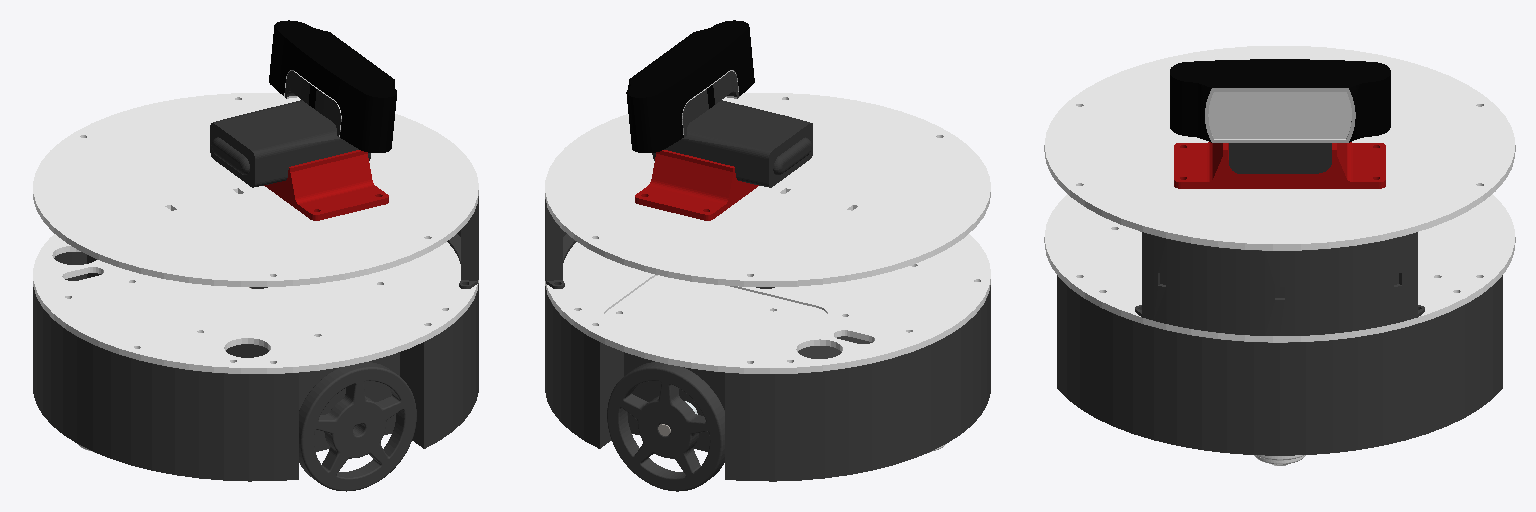
URDF robot description (robot_description):
<?xml version="1.0"?>
<robot name="robot_description">
  <link name="base_link">
    <!-- sw2robot appearance="plastic/soft touch/dark grey soft touch plastic" density="1000" inertia="solidworks" -->
    <visual>
      <origin xyz="0 0 0" rpy="0 0 0" />
      <geometry>
        <mesh filename="package://robot_description/meshes/CLM_Base_2.dae" />
      </geometry>
    </visual>
    <collision>
      <origin xyz="0 0 0" rpy="0 0 0" />
      <geometry>
        <mesh filename="package://robot_description/meshes/CLM_Base_2.stl" />
      </geometry>
    </collision>
    <inertial>
      <origin xyz="2.909209692e-05 5.379656894e-09 0.001499999923" rpy="0 0 0" />
      <mass value="0.0798553" />
      <inertia ixx="0.000161469" ixy="1.93163e-10" ixz="5.42727e-10" iyy="0.000204646" iyz="5.92667e-10" izz="0.000365995" />
    </inertial>
  </link>
  <link name="CLM_BaseCam_1">
    <!-- sw2robot appearance="plastic/low gloss/red low gloss plastic" density="1000" inertia="solidworks" -->
    <visual>
      <origin xyz="0 0 0" rpy="0 0 0" />
      <geometry>
        <mesh filename="package://robot_description/meshes/CLM_BaseCam_1.dae" />
      </geometry>
    </visual>
    <collision>
      <origin xyz="0 0 0" rpy="0 0 0" />
      <geometry>
        <mesh filename="package://robot_description/meshes/CLM_BaseCam_1.stl" />
      </geometry>
    </collision>
    <inertial>
      <origin xyz="2.118394455e-08 -0.0001307040219 0" rpy="0 0 0" />
      <mass value="0.0272572" />
      <inertia ixx="4.01071e-06" ixy="-8.90641e-13" ixz="-1.55632e-12" iyy="1.57597e-05" iyz="5.54855e-22" izz="1.24593e-05" />
    </inertial>
  </link>
  <link name="CLM_Body_1">
    <!-- sw2robot appearance="plastic/soft touch/dark grey soft touch plastic" density="1000" inertia="solidworks" -->
    <visual>
      <origin xyz="0 0 0" rpy="0 0 0" />
      <geometry>
        <mesh filename="package://robot_description/meshes/CLM_Body_1.dae" />
      </geometry>
    </visual>
    <collision>
      <origin xyz="0 0 0" rpy="0 0 0" />
      <geometry>
        <mesh filename="package://robot_description/meshes/CLM_Body_1.stl" />
      </geometry>
    </collision>
    <inertial>
      <origin xyz="0 0 0" rpy="0 0 0" />
      <mass value="0.0703766" />
      <inertia ixx="0.000318246" ixy="4.07338e-21" ixz="-3.63959e-20" iyy="0.000617734" iyz="-5.47748e-21" izz="0.000328812" />
    </inertial>
  </link>
  <link name="CLM_Holder3TOF_1">
    <!-- sw2robot appearance="plastic/low gloss/dark grey low gloss plastic" density="1000" inertia="solidworks" -->
    <visual>
      <origin xyz="0 0 0" rpy="0 0 0" />
      <geometry>
        <mesh filename="package://robot_description/meshes/CLM_Holder3TOF_1.dae" />
      </geometry>
    </visual>
    <collision>
      <origin xyz="0 0 0" rpy="0 0 0" />
      <geometry>
        <mesh filename="package://robot_description/meshes/CLM_Holder3TOF_1.stl" />
      </geometry>
    </collision>
    <inertial>
      <origin xyz="-0.0001778758162 -9.422542457e-05 2.265875269e-05" rpy="0 0 0" />
      <mass value="0.011205" />
      <inertia ixx="1.69914e-05" ixy="-2.19356e-08" ixz="-6.94907e-08" iyy="2.10902e-06" iyz="1.16714e-08" izz="1.60039e-05" />
    </inertial>
  </link>
  <link name="CLM_Llanta60mmD_1">
    <!-- sw2robot appearance="color" density="1000" inertia="solidworks" -->
    <visual>
      <origin xyz="0 0 0" rpy="0 0 0" />
      <geometry>
        <mesh filename="package://robot_description/meshes/CLM_Llanta60mmD_1.dae" />
      </geometry>
    </visual>
    <collision>
      <origin xyz="0 0 0" rpy="0 0 0" />
      <geometry>
        <mesh filename="package://robot_description/meshes/CLM_Llanta60mmD_1.stl" />
      </geometry>
    </collision>
    <inertial>
      <origin xyz="0.004177249781 3.083362116e-06 5.290780843e-08" rpy="0 0 0" />
      <mass value="0.0161318" />
      <inertia ixx="7.59523e-06" ixy="9.06637e-11" ixz="1.55533e-12" iyy="3.89616e-06" iyz="-2.14821e-12" izz="3.89629e-06" />
    </inertial>
  </link>
  <link name="CLM_Llanta60mmD_2">
    <!-- sw2robot appearance="color" density="1000" inertia="solidworks" -->
    <visual>
      <origin xyz="0 0 0" rpy="0 0 0" />
      <geometry>
        <mesh filename="package://robot_description/meshes/CLM_Llanta60mmD_1_2.dae" />
      </geometry>
    </visual>
    <collision>
      <origin xyz="0 0 0" rpy="0 0 0" />
      <geometry>
        <mesh filename="package://robot_description/meshes/CLM_Llanta60mmD_1_2.stl" />
      </geometry>
    </collision>
    <inertial>
      <origin xyz="-0.004177249781 3.083816008e-06 -6.829287011e-15" rpy="0 0 0" />
      <mass value="0.0161318" />
      <inertia ixx="7.59523e-06" ixy="-9.0677e-11" ixz="-3.78481e-16" iyy="3.89616e-06" iyz="1.76451e-18" izz="3.89629e-06" />
    </inertial>
  </link>
  <link name="CLM_PisoCam_1">
    <!-- sw2robot material="ABS" appearance="plastic/clear plastic/polycarbonate" density="1020" inertia="solidworks" -->
    <visual>
      <origin xyz="0 0 0" rpy="0 0 0" />
      <geometry>
        <mesh filename="package://robot_description/meshes/CLM_PisoCam_1.dae" />
      </geometry>
    </visual>
    <collision>
      <origin xyz="0 0 0" rpy="0 0 0" />
      <geometry>
        <mesh filename="package://robot_description/meshes/CLM_PisoCam_1.stl" />
      </geometry>
    </collision>
    <inertial>
      <origin xyz="2.531783807e-05 0 -3.288351194e-06" rpy="0 0 0" />
      <mass value="0.0957163" />
      <inertia ixx="0.000239471" ixy="-1.56512e-24" ixz="4.93827e-23" iyy="0.000479309" iyz="2.47185e-25" izz="0.000239982" />
    </inertial>
  </link>
  <link name="CLM_Plato_1">
    <!-- sw2robot material="ABS" appearance="plastic/clear plastic/polycarbonate" density="1020" inertia="solidworks" -->
    <visual>
      <origin xyz="0 0 0" rpy="0 0 0" />
      <geometry>
        <mesh filename="package://robot_description/meshes/CLM_Plato_1.dae" />
      </geometry>
    </visual>
    <collision>
      <origin xyz="0 0 0" rpy="0 0 0" />
      <geometry>
        <mesh filename="package://robot_description/meshes/CLM_Plato_1.stl" />
      </geometry>
    </collision>
    <inertial>
      <origin xyz="-0.0002532910598 1.661443414e-05 -0.003476171074" rpy="0 0 0" />
      <mass value="0.0822539" />
      <inertia ixx="0.000213743" ixy="-8.61348e-09" ixz="-2.44984e-06" iyy="0.000436832" iyz="-2.81646e-07" izz="0.000223208" />
    </inertial>
  </link>
  <link name="CLM_RuedaLoca_1">
    <!-- sw2robot appearance="color" density="2700" inertia="solidworks" -->
    <visual>
      <origin xyz="0 0 0" rpy="0 0 0" />
      <geometry>
        <mesh filename="package://robot_description/meshes/CLM_RuedaLoca_1.dae" />
      </geometry>
    </visual>
    <collision>
      <origin xyz="0 0 0" rpy="0 0 0" />
      <geometry>
        <mesh filename="package://robot_description/meshes/CLM_RuedaLoca_1.stl" />
      </geometry>
    </collision>
    <inertial>
      <origin xyz="4.219892586e-08 0.002768118876 -4.943906692e-08" rpy="0 0 0" />
      <mass value="0.0209328" />
      <inertia ixx="1.31108e-06" ixy="6.17056e-15" ixz="-1.70437e-13" iyy="1.88922e-06" iyz="-7.73617e-15" izz="1.483e-06" />
    </inertial>
  </link>
  <link name="CLM_RuedaLoca_2">
    <!-- sw2robot appearance="color" density="2700" inertia="solidworks" -->
    <visual>
      <origin xyz="0 0 0" rpy="0 0 0" />
      <geometry>
        <mesh filename="package://robot_description/meshes/CLM_RuedaLoca_1.dae" />
      </geometry>
    </visual>
    <collision>
      <origin xyz="0 0 0" rpy="0 0 0" />
      <geometry>
        <mesh filename="package://robot_description/meshes/CLM_RuedaLoca_1.stl" />
      </geometry>
    </collision>
    <inertial>
      <origin xyz="4.219892586e-08 0.002768118876 -4.943906692e-08" rpy="0 0 0" />
      <mass value="0.0209328" />
      <inertia ixx="1.31108e-06" ixy="6.17056e-15" ixz="-1.70437e-13" iyy="1.88922e-06" iyz="-7.73617e-15" izz="1.483e-06" />
    </inertial>
  </link>
  <link name="Motorreductor_37D_con_encoder_1">
    <!-- sw2robot appearance="color" density="1000" inertia="solidworks" -->
    <visual>
      <origin xyz="0 0 0" rpy="0 0 0" />
      <geometry>
        <mesh filename="package://robot_description/meshes/Motorreductor_37D_con_encoder_1.dae" />
      </geometry>
    </visual>
    <collision>
      <origin xyz="0 0 0" rpy="0 0 0" />
      <geometry>
        <mesh filename="package://robot_description/meshes/Motorreductor_37D_con_encoder_1.stl" />
      </geometry>
    </collision>
    <inertial>
      <origin xyz="-0.0001323148374 0.0003000539181 0.01085713394" rpy="0 0 0" />
      <mass value="0.0584429" />
      <inertia ixx="2.42014e-05" ixy="-2.26662e-08" ixz="-4.52922e-08" iyy="2.41351e-05" iyz="-2.41094e-07" izz="9.13728e-06" />
    </inertial>
  </link>
  <link name="Motorreductor_37D_con_encoder_2">
    <!-- sw2robot appearance="color" density="1000" inertia="solidworks" -->
    <visual>
      <origin xyz="0 0 0" rpy="0 0 0" />
      <geometry>
        <mesh filename="package://robot_description/meshes/Motorreductor_37D_con_encoder_1.dae" />
      </geometry>
    </visual>
    <collision>
      <origin xyz="0 0 0" rpy="0 0 0" />
      <geometry>
        <mesh filename="package://robot_description/meshes/Motorreductor_37D_con_encoder_1.stl" />
      </geometry>
    </collision>
    <inertial>
      <origin xyz="-0.0001323148374 0.0003000539181 0.01085713394" rpy="0 0 0" />
      <mass value="0.0584429" />
      <inertia ixx="2.42014e-05" ixy="-2.26662e-08" ixz="-4.52922e-08" iyy="2.41351e-05" iyz="-2.41094e-07" izz="9.13728e-06" />
    </inertial>
  </link>
  <link name="CLM_LogitechC920Montaj_1__Logitech_C920_1">
    <!-- sw2robot appearance="color" density="1000" inertia="solidworks" -->
    <visual>
      <origin xyz="0 0 0" rpy="0 0 0" />
      <geometry>
        <mesh filename="package://robot_description/meshes/CLM_LogitechC920Montaj__Logitech_C920_1.dae" />
      </geometry>
    </visual>
    <collision>
      <origin xyz="0 0 0" rpy="0 0 0" />
      <geometry>
        <mesh filename="package://robot_description/meshes/CLM_LogitechC920Montaj__Logitech_C920_1.stl" />
      </geometry>
    </collision>
    <inertial>
      <origin xyz="1.629345551e-07 0.001165009645 0.0009780374508" rpy="0 0 0" />
      <mass value="0.0470289" />
      <inertia ixx="4.39179e-06" ixy="-2.65875e-12" ixz="-3.09228e-11" iyy="3.29794e-05" iyz="8.44203e-08" izz="3.37748e-05" />
    </inertial>
  </link>
  <link name="CLM_LogitechC920Montaj_1__Logitech_C920Arm_1">
    <!-- sw2robot appearance="color" density="1000" inertia="solidworks" -->
    <visual>
      <origin xyz="0 0 0" rpy="0 0 0" />
      <geometry>
        <mesh filename="package://robot_description/meshes/CLM_LogitechC920Montaj__Logitech_C920Arm_1.dae" />
      </geometry>
    </visual>
    <collision>
      <origin xyz="0 0 0" rpy="0 0 0" />
      <geometry>
        <mesh filename="package://robot_description/meshes/CLM_LogitechC920Montaj__Logitech_C920Arm_1.stl" />
      </geometry>
    </collision>
    <inertial>
      <origin xyz="1.184944512e-05 -0.0002629298496 -0.001098767263" rpy="0 0 0" />
      <mass value="0.0448125" />
      <inertia ixx="1.46407e-05" ixy="9.94154e-10" ixz="-3.39783e-09" iyy="1.99086e-05" iyz="-2.08938e-08" izz="7.62925e-06" />
    </inertial>
  </link>
  <link name="CLM_LogitechC920Montaj_1__Logitech_C920Glass_1">
    <!-- sw2robot appearance="glass/gloss/clear glass" density="1000" inertia="solidworks" -->
    <visual>
      <origin xyz="0 0 0" rpy="0 0 0" />
      <geometry>
        <mesh filename="package://robot_description/meshes/CLM_LogitechC920Montaj__Logitech_C920Glass_1.dae" />
      </geometry>
    </visual>
    <collision>
      <origin xyz="0 0 0" rpy="0 0 0" />
      <geometry>
        <mesh filename="package://robot_description/meshes/CLM_LogitechC920Montaj__Logitech_C920Glass_1.stl" />
      </geometry>
    </collision>
    <inertial>
      <origin xyz="-2.85676082e-06 -1.336350615e-07 -6.400062172e-08" rpy="0 0 0" />
      <mass value="0.000717962" />
      <inertia ixx="3.42308e-08" ixy="1.41124e-12" ixz="3.90504e-13" iyy="2.11244e-07" iyz="1.8176e-14" izz="2.45445e-07" />
    </inertial>
  </link>
  <joint name="CLM_Plato_1__CLM_Holder3TOF_1" type="fixed">
    <origin xyz="-0.08990730205 0.01870730362 -0.0001520118609" rpy="-1.570796327 0 0" />
    <parent link="CLM_Plato_1" />
    <child link="CLM_Holder3TOF_1" />
    <axis xyz="0 0 1" />
    <!-- mates: COINCIDENT, CONCENTRIC, CONCENTRIC, COINCIDENT, CONCENTRIC, CONCENTRIC -->
    <!-- sw2robot-note: geo: fully constrained -->
  </joint>
  <joint name="CLM_Plato_1__CLM_PisoCam_1" type="fixed">
    <origin xyz="0.0002947482601 0.04308267026 -0.0001363056763" rpy="0 0 0" />
    <parent link="CLM_Plato_1" />
    <child link="CLM_PisoCam_1" />
    <axis xyz="0 -1 0" />
    <!-- mates: DISTANCE, CONCENTRIC, CONCENTRIC, DISTANCE, CONCENTRIC, CONCENTRIC -->
    <!-- sw2robot-note: geo: fully constrained -->
  </joint>
  <joint name="CLM_PisoCam_1__CLM_BaseCam_1" type="fixed">
    <origin xyz="-0.02399485427 0.006551456244 -3.262764386e-06" rpy="4.10206857e-10 1.570796327 4.10206857e-10" />
    <parent link="CLM_PisoCam_1" />
    <child link="CLM_BaseCam_1" />
    <axis xyz="0 -1 0" />
    <!-- mates: CONCENTRIC, CONCENTRIC, COINCIDENT, CONCENTRIC, CONCENTRIC, COINCIDENT -->
    <!-- sw2robot-note: geo: fully constrained -->
  </joint>
  <joint name="CLM_BaseCam_1__CLM_LogitechC920Montaj_1__Logitech_C920Arm_1" type="fixed">
    <origin xyz="-0.0001337084003 0.01371238028 0.005398527993" rpy="3.141592653 0 -3.141592653" />
    <parent link="CLM_BaseCam_1" />
    <child link="CLM_LogitechC920Montaj_1__Logitech_C920Arm_1" />
    <axis xyz="1 0 0" />
    <!-- mates: COINCIDENT, COINCIDENT, COINCIDENT, COINCIDENT -->
    <!-- sw2robot-note: geo: 1 DOF pure translation; config sets fixed (inference said prismatic) -->
  </joint>
  <joint name="CLM_LogitechC920Montaj_1__Logitech_C920Arm_1__CLM_LogitechC920Montaj_1__Logitech_C920_1" type="fixed">
    <origin xyz="-2.902294488e-05 0.02098703389 0.02358025179" rpy="3.035215863 0 -3.141592653" />
    <parent link="CLM_LogitechC920Montaj_1__Logitech_C920Arm_1" />
    <child link="CLM_LogitechC920Montaj_1__Logitech_C920_1" />
    <axis xyz="1 0 0" />
    <!-- mates: CONCENTRIC, COINCIDENT, ANGLE, CONCENTRIC, COINCIDENT, ANGLE -->
    <!-- sw2robot-note: geo: fully constrained -->
  </joint>
  <joint name="CLM_LogitechC920Montaj_1__Logitech_C920_1__CLM_LogitechC920Montaj_1__Logitech_C920Glass_1" type="fixed">
    <origin xyz="5.195705123e-05 0.0002922896135 -0.01074059663" rpy="3.141592653 0 -3.141592653" />
    <parent link="CLM_LogitechC920Montaj_1__Logitech_C920_1" />
    <child link="CLM_LogitechC920Montaj_1__Logitech_C920Glass_1" />
    <axis xyz="-1 0 0" />
    <!-- mates: COINCIDENT, COINCIDENT, COINCIDENT, COINCIDENT -->
    <!-- sw2robot-note: geo: 1 DOF pure translation; config sets fixed (inference said prismatic) -->
  </joint>
  <joint name="CLM_Base_2__CLM_Plato_1" type="fixed">
    <origin xyz="0.0003000390194 0.0001397925713 0.05441732843" rpy="1.5708 -2.65357336e-06 3.14158818" />
    <parent link="base_link" />
    <child link="CLM_Plato_1" />
  </joint>
  <joint name="CLM_Base_2__CLM_Body_1" type="fixed">
    <origin xyz="7.430051419e-08 1.028494105e-07 0.028" rpy="1.5708 -2.65357336e-06 3.14158818" />
    <parent link="base_link" />
    <child link="CLM_Body_1" />
    <axis xyz="0 -1 0" />
    <!-- mates: CONCENTRIC, COINCIDENT, COINCIDENT, CONCENTRIC, COINCIDENT, COINCIDENT -->
    <!-- sw2robot-note: geo: fully constrained -->
  </joint>
  <joint name="CLM_Body_1__Motorreductor_37D_con_encoder_2" type="fixed">
    <origin xyz="0.0001598794074 -0.004994533998 0.03165847155" rpy="0 0 0" />
    <parent link="CLM_Body_1" />
    <child link="Motorreductor_37D_con_encoder_2" />
    <axis xyz="0 0 -1" />
  </joint>
  <joint name="Motorreductor_37D_con_encoder_2__CLM_Llanta60mmD_1" type="continuous">
    <origin xyz="-0.0001598794074 -0.006505466002 0.06138907051" rpy="3.141592654 1.570796327 3.141592654" />
    <parent link="Motorreductor_37D_con_encoder_2" />
    <child link="CLM_Llanta60mmD_1" />
    <axis xyz="1 0 0" />
    <!-- mates: COINCIDENT, CONCENTRIC, COINCIDENT, CONCENTRIC -->
    <!-- sw2robot-note: geo: free rotation about mate axis (1 DOF); config sets continuous (inference said revolute) -->
  </joint>
  <joint name="CLM_Body_1__Motorreductor_37D_con_encoder_1" type="fixed">
    <origin xyz="-0.0613890705 0.006505466002 -0.0001598794114" rpy="4.10206857e-10 1.570796327 4.10206857e-10" />
    <parent link="CLM_Body_1" />
    <child link="Motorreductor_37D_con_encoder_1" />
    <axis xyz="0 0 -1" />
  </joint>
  <joint name="Motorreductor_37D_con_encoder_1__CLM_Llanta60mmD_2" type="continuous">
    <origin xyz="0 -0.0115 -0.09304754206" rpy="3.141592654 1.570796327 3.141592654" />
    <parent link="CLM_Body_1" />
    <child link="CLM_Llanta60mmD_2" />
    <axis xyz="1 0 0" />
  </joint>
  <joint name="CLM_Body_1__CLM_RuedaLoca_2" type="fixed">
    <origin xyz="-0.07999995084 -0.02692585491 -4.222249463e-08" rpy="-3.141592653 -1.570796327 4.10206857e-10" />
    <parent link="CLM_Body_1" />
    <child link="CLM_RuedaLoca_2" />
  </joint>
  <joint name="CLM_Body_1__CLM_RuedaLoca_1" type="fixed">
    <origin xyz="0.08000004916 -0.02692585491 -4.222249463e-08" rpy="-3.141592653 -1.570796327 4.10206857e-10" />
    <parent link="CLM_Body_1" />
    <child link="CLM_RuedaLoca_1" />
  </joint>
</robot>

--- Render facts (derived) ---
Views: 3 orthographic renders of the robot side by side, from view 1: azimuth 30°, elevation 25°; view 2: azimuth 150°, elevation 25°; view 3: azimuth 270°, elevation 25°.
Model robot_description with 15 links and 14 joints (2 continuous, 12 fixed), rooted at base_link, posed all joints at 0.
Visible links, largest first — view 1: CLM_PisoCam_1, CLM_Body_1, CLM_Plato_1, CLM_Llanta60mmD_2, CLM_LogitechC920Montaj_1__Logitech_C920_1, CLM_LogitechC920Montaj_1__Logitech_C920Arm_1, CLM_BaseCam_1, base_link, CLM_Holder3TOF_1; view 2: CLM_PisoCam_1, CLM_Plato_1, CLM_Body_1, CLM_Llanta60mmD_1, CLM_LogitechC920Montaj_1__Logitech_C920_1, CLM_LogitechC920Montaj_1__Logitech_C920Arm_1, CLM_BaseCam_1, base_link, CLM_Holder3TOF_1; view 3: CLM_PisoCam_1, CLM_Body_1, CLM_Holder3TOF_1, CLM_Plato_1, CLM_LogitechC920Montaj_1__Logitech_C920_1, CLM_BaseCam_1, CLM_LogitechC920Montaj_1__Logitech_C920Glass_1, CLM_LogitechC920Montaj_1__Logitech_C920Arm_1, base_link.
Boxes of the visible links, x1,y1,x2,y2 form: CLM_PisoCam_1: [33, 93, 478, 286]; CLM_Body_1: [33, 252, 478, 474]; CLM_Plato_1: [33, 234, 478, 373]; CLM_Llanta60mmD_2: [299, 362, 416, 491]; CLM_LogitechC920Montaj_1__Logitech_C920_1: [269, 20, 396, 152]; CLM_LogitechC920Montaj_1__Logitech_C920Arm_1: [210, 100, 370, 187]; CLM_BaseCam_1: [264, 150, 388, 220]; base_link: [33, 387, 478, 481]; CLM_Holder3TOF_1: [447, 196, 478, 288]; CLM_PisoCam_1: [545, 93, 990, 286]; CLM_Plato_1: [545, 234, 990, 373]; CLM_Body_1: [545, 285, 990, 474]; CLM_Llanta60mmD_1: [607, 362, 724, 491]; CLM_LogitechC920Montaj_1__Logitech_C920_1: [626, 20, 754, 152]; CLM_LogitechC920Montaj_1__Logitech_C920Arm_1: [652, 100, 812, 187]; CLM_BaseCam_1: [635, 150, 758, 220]; base_link: [545, 336, 990, 481]; CLM_Holder3TOF_1: [545, 199, 576, 288]; CLM_PisoCam_1: [1044, 46, 1515, 250]; CLM_Body_1: [1057, 275, 1502, 448]; CLM_Holder3TOF_1: [1135, 232, 1424, 335]; CLM_Plato_1: [1044, 194, 1515, 342]; CLM_LogitechC920Montaj_1__Logitech_C920_1: [1170, 59, 1390, 142]; CLM_BaseCam_1: [1174, 142, 1385, 188]; CLM_LogitechC920Montaj_1__Logitech_C920Glass_1: [1208, 92, 1351, 138]; CLM_LogitechC920Montaj_1__Logitech_C920Arm_1: [1229, 143, 1331, 173]; base_link: [1057, 383, 1502, 455].
Size in the robot's own frame: 0.2 by 0.2 by 0.1672 metres.
15 mesh visuals loaded from 13 distinct referenced files (13 Collada DAE).
